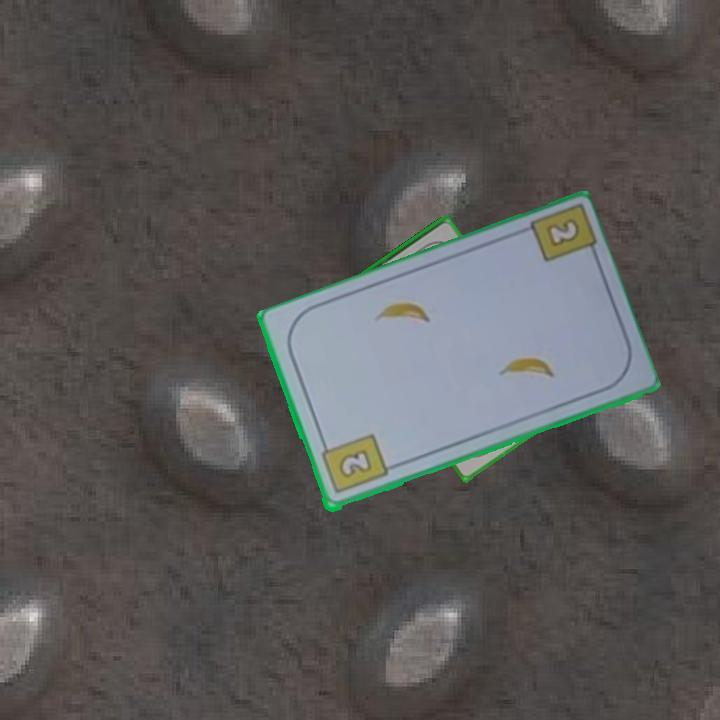2b: (317, 430, 390, 498), (542, 215, 583, 251)
